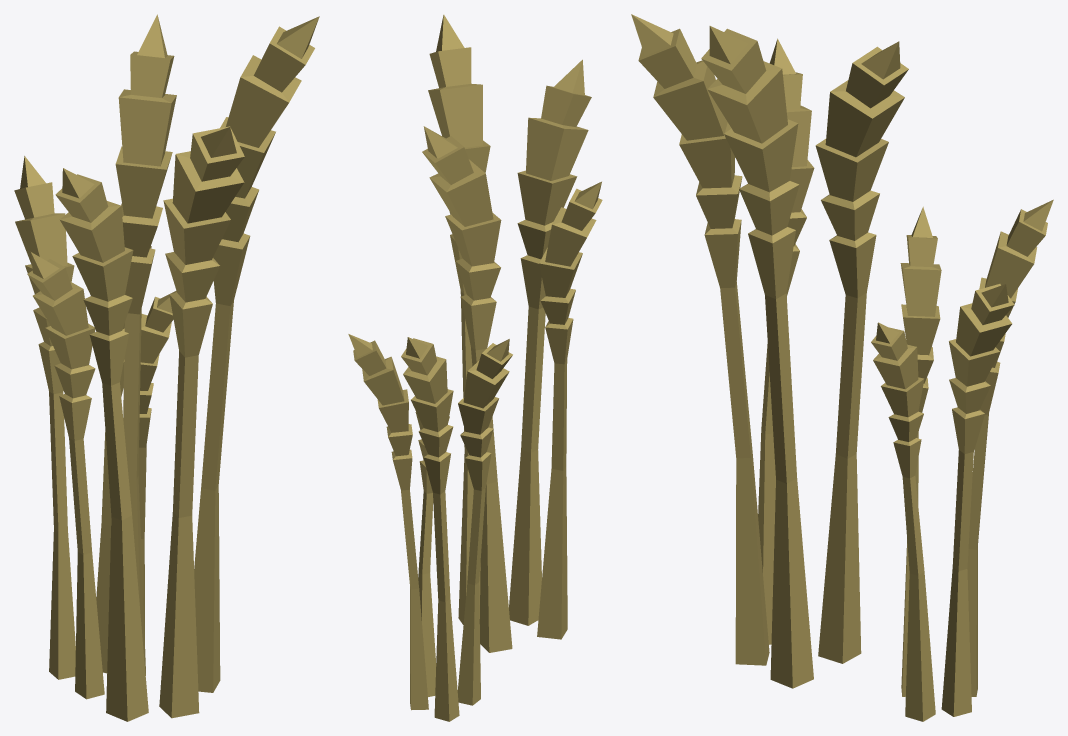
The model's file is stewardship.glb.
3 renders of one model, left to right at view 1: azimuth 30°, elevation 25°; view 2: azimuth 150°, elevation 25°; view 3: azimuth 270°, elevation 25°, orthographic. The views are drawn at different scales.
Visible parts, largest first — view 1: Wheat.001, Wheat.002; view 2: Wheat.001, Wheat.002; view 3: Wheat.001, Wheat.002.
Part boxes in pixels (x1,y1,x2,y2): Wheat.001: [55, 14, 319, 721]; Wheat.002: [14, 156, 176, 699]; Wheat.001: [422, 14, 602, 652]; Wheat.002: [348, 334, 512, 721]; Wheat.001: [631, 14, 908, 688]; Wheat.002: [871, 199, 1053, 721].
Bounding box in the file's own units: 1.01 × 3.01 × 1.58.
